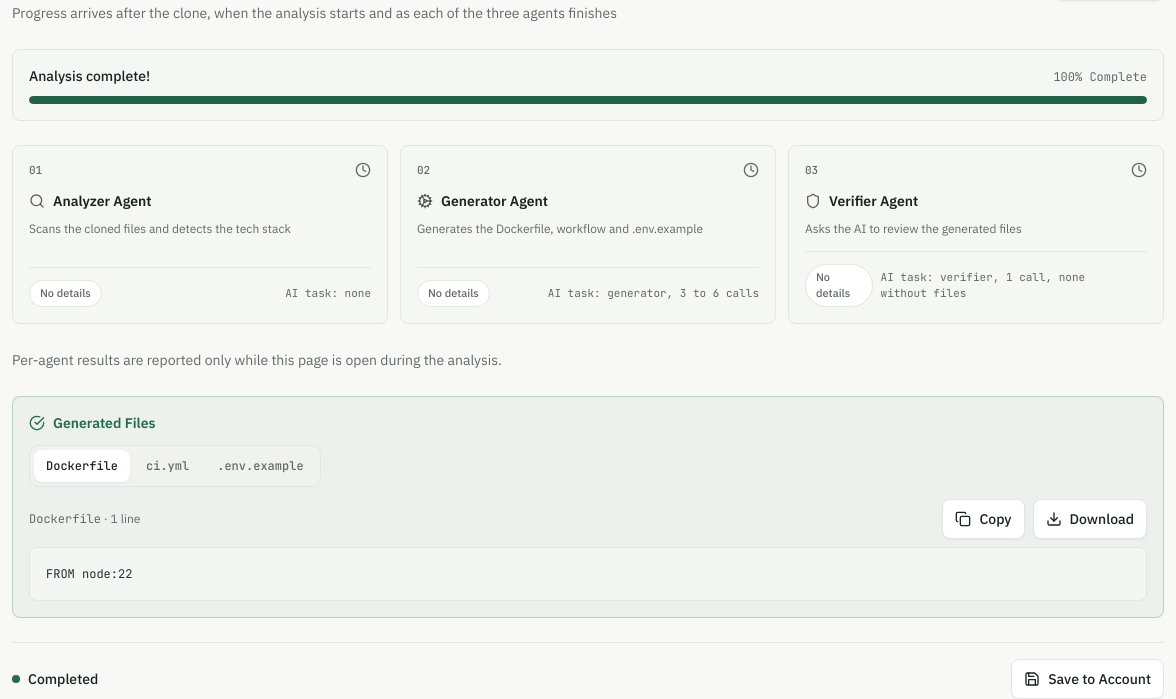
Scenario: AgentProgress saves › keeps the existing Saved state and toast when every file is new
(page scrolled)
Click the button "Save to Account". click: (1088, 678)
box: [1011,658,1164,698]
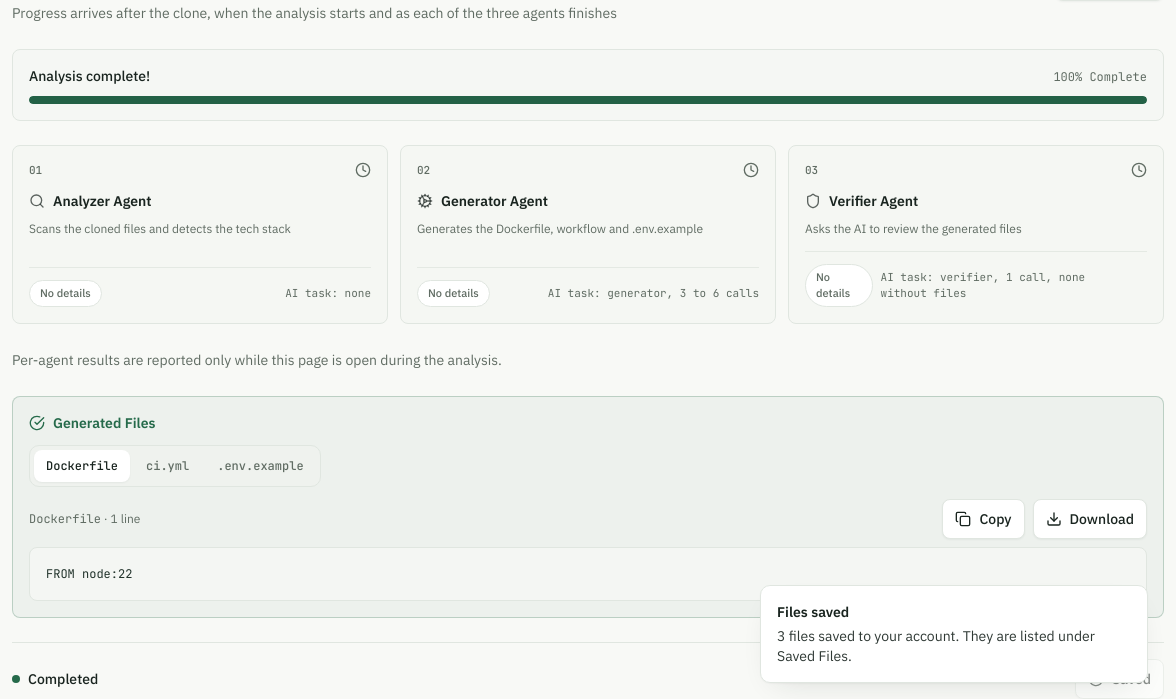
Check: the text "3 files saved to your account. They are listed under Saved Files." is shown, box [777,626,1115,666]
Check: the button "Saved" is disabled, box [1075,658,1164,698]
